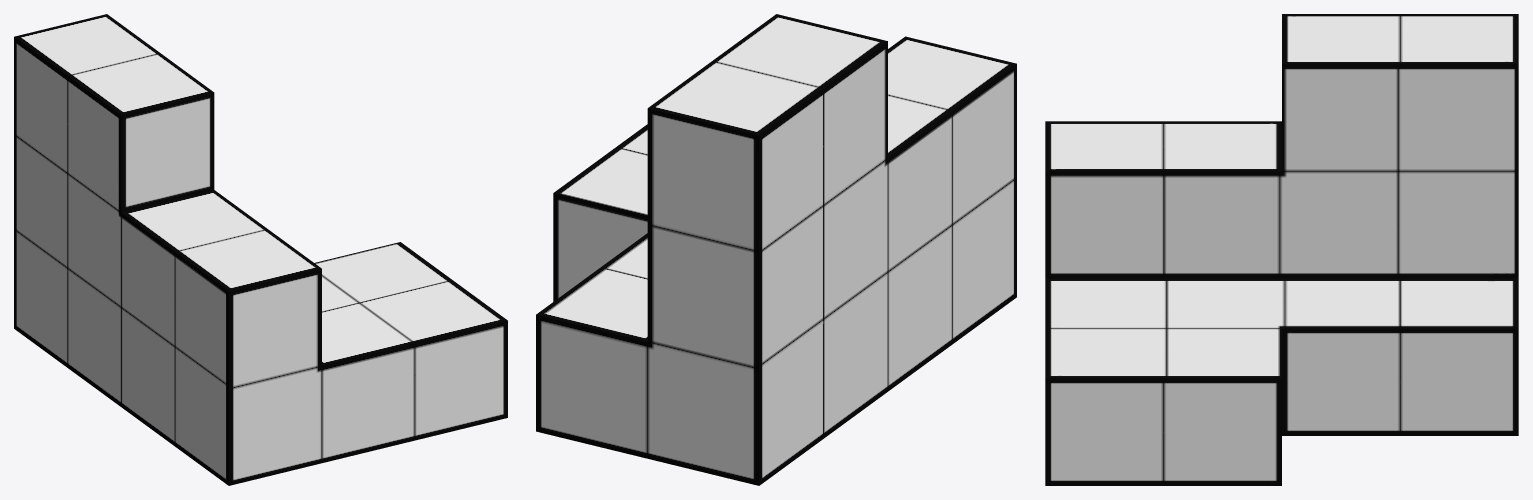
File: fig6.glb
3 renders of one model, left to right at view 1: azimuth 30°, elevation 25°; view 2: azimuth 150°, elevation 25°; view 3: azimuth 270°, elevation 25°, orthographic. The views are drawn at different scales.
Visible parts, largest first — view 1: root; view 2: root; view 3: root.
Boxes of the visible parts, box(x1,y1,x2,y2) form: root: box(14, 14, 507, 485); root: box(536, 14, 1016, 485); root: box(1045, 14, 1518, 485).
Size of the model in its own units: 0.03 by 0.03 by 0.04.
Materials: 9 (9 with a texture image).
